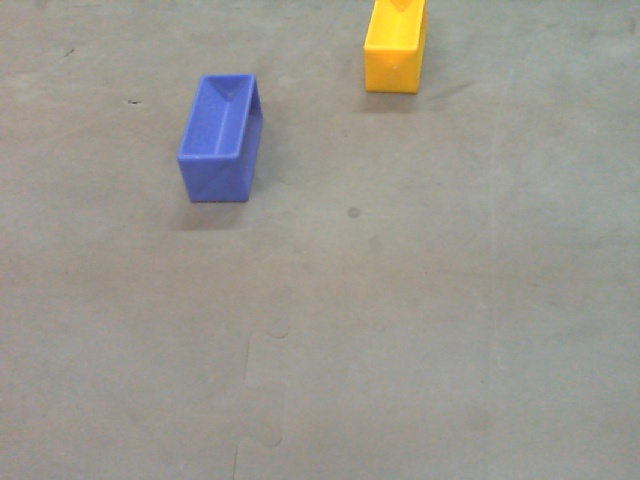BlueSample: (174, 71, 262, 203)
YellowSample: (362, 1, 428, 96)
